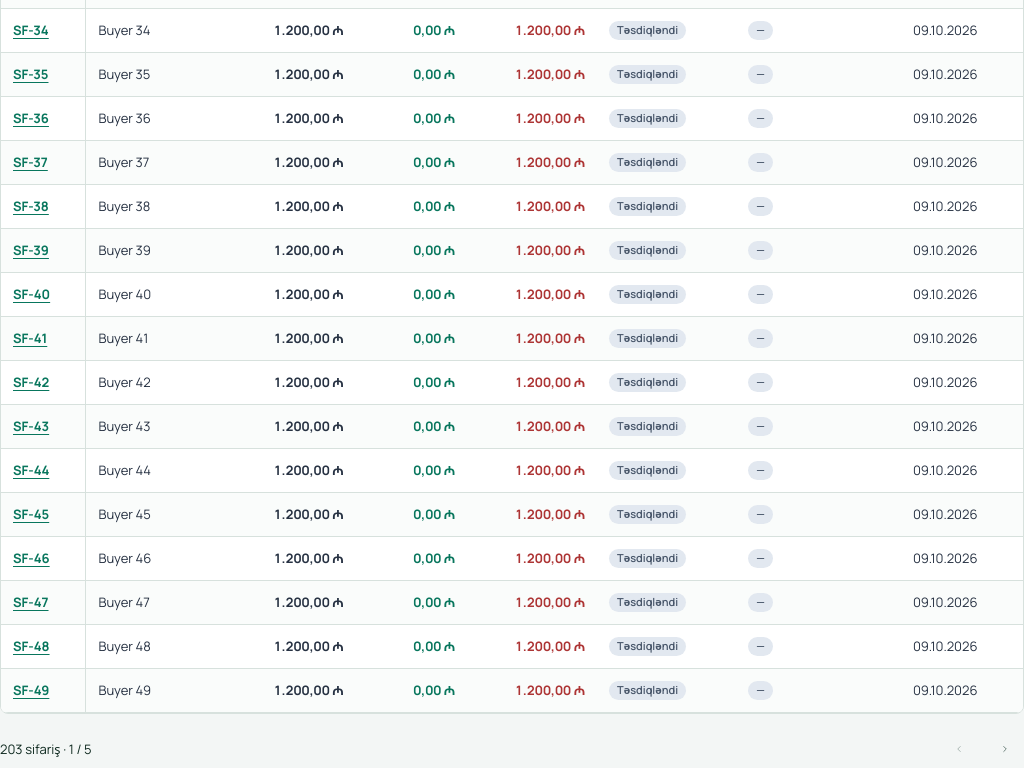
Test: bounds rendered rows while searching the complete loaded registry
This screenshot has width=1024, height=768.
(page scrolled)
Check: the navigation bar named "Satış reyestri səhifələri" shows "203 sifariş", box [0, 730, 1023, 767]
Click the button named "Növbəti səhifə" at (1005, 749), box [986, 730, 1023, 767]
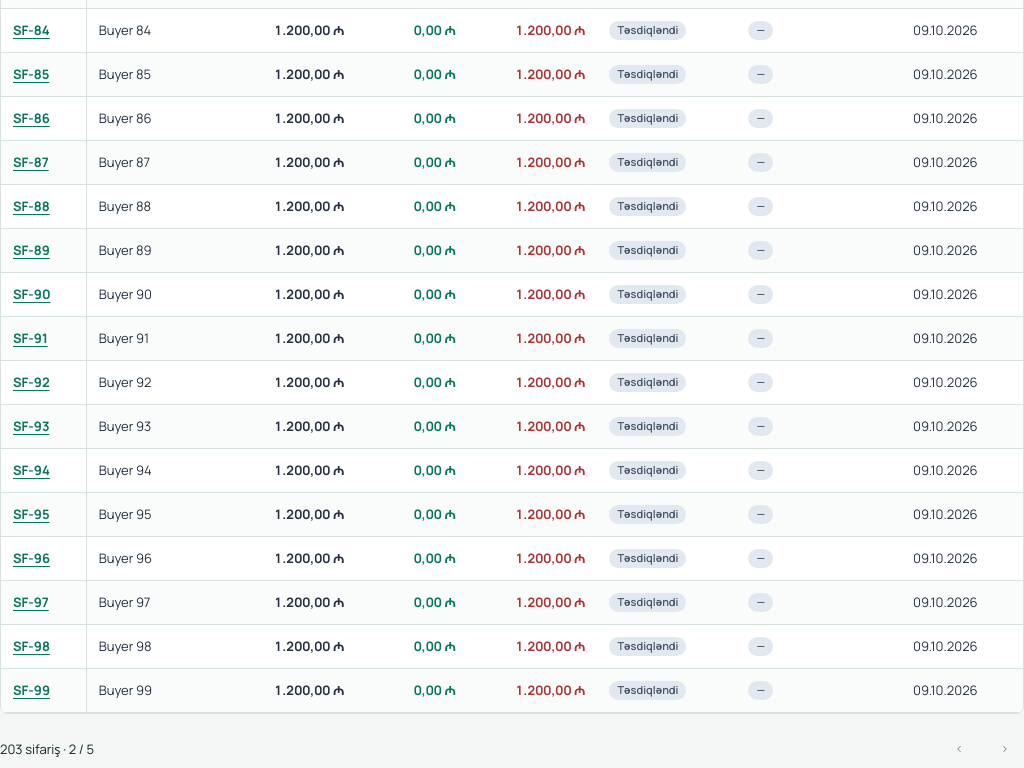
Click the button named "Növbəti səhifə" at (1005, 749), box [986, 730, 1023, 767]
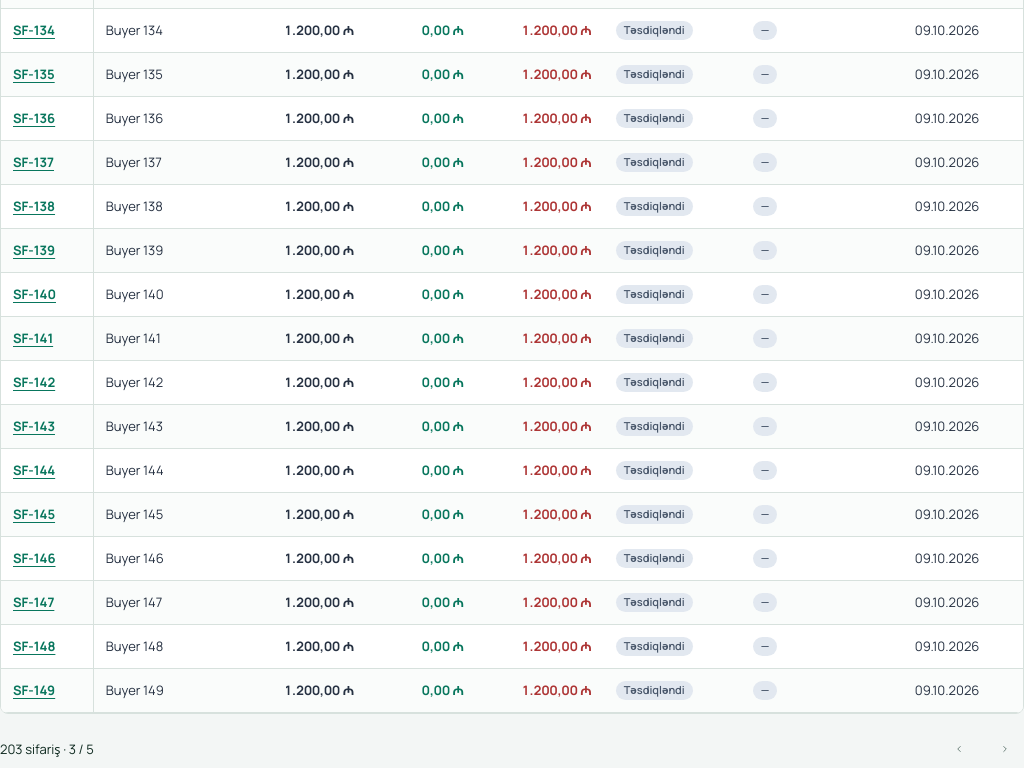
Click the button named "Növbəti səhifə" at (1005, 749), box [986, 730, 1023, 767]
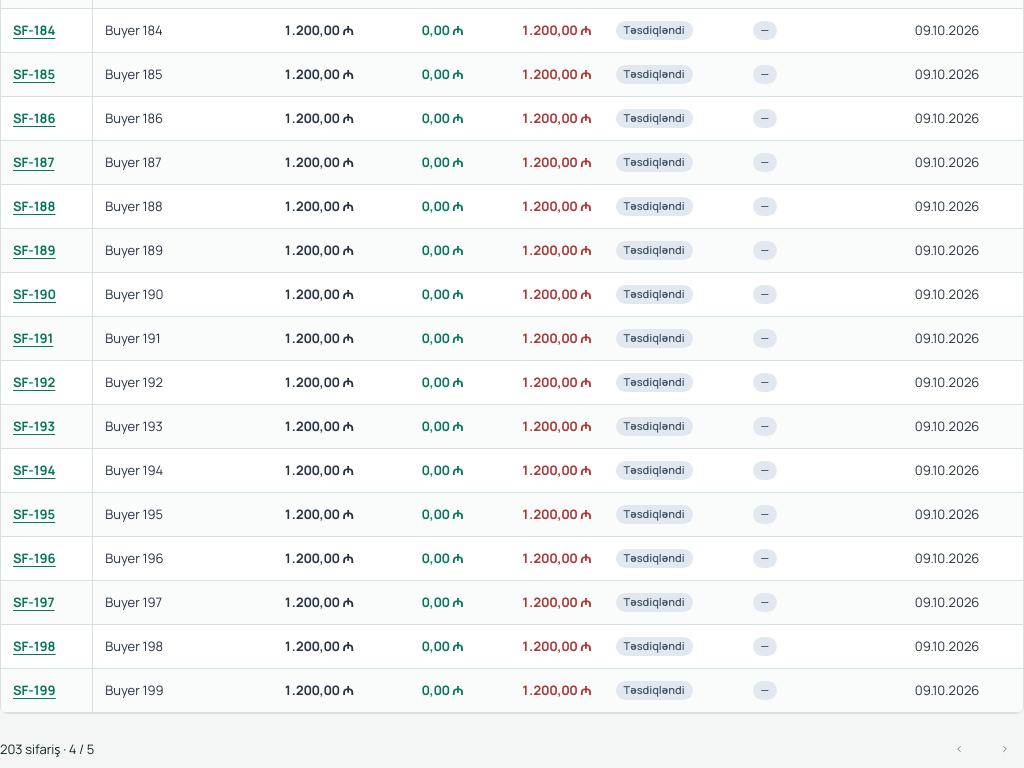
Click the button named "Növbəti səhifə" at (1005, 749), box [986, 730, 1023, 767]
(page scrolled)
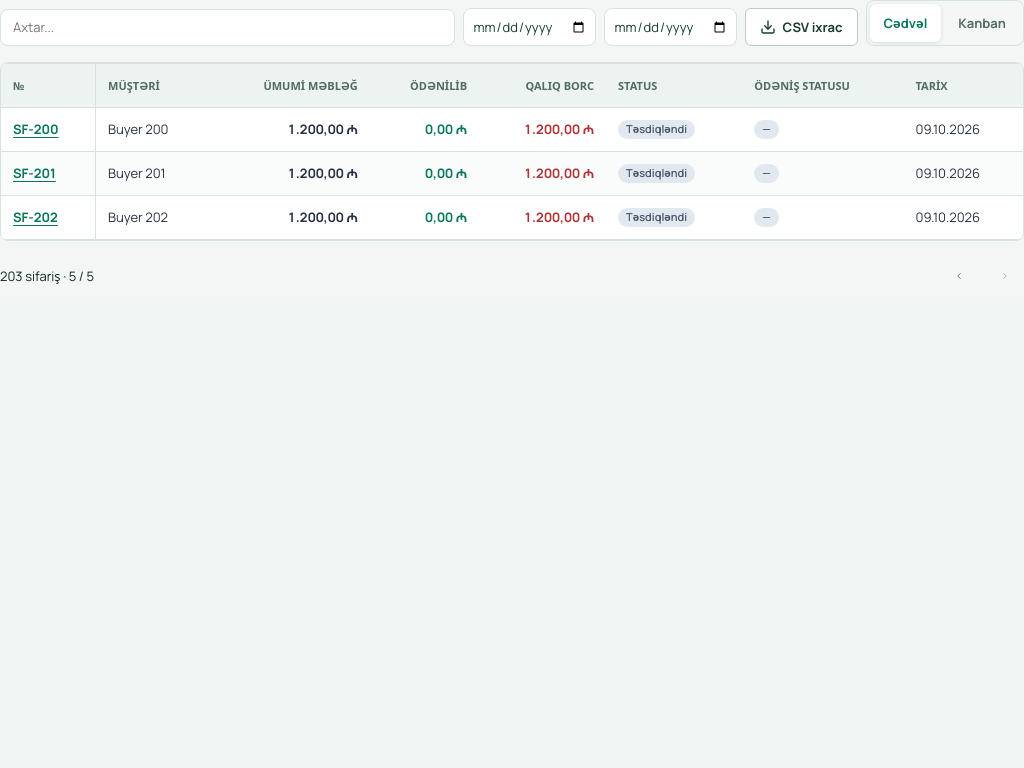
Check: the link "SF-202" is shown, box [13, 208, 58, 226]
Type "SF-175" into the field with placeholder "Axtar..." at (228, 28), box [0, 9, 455, 46]
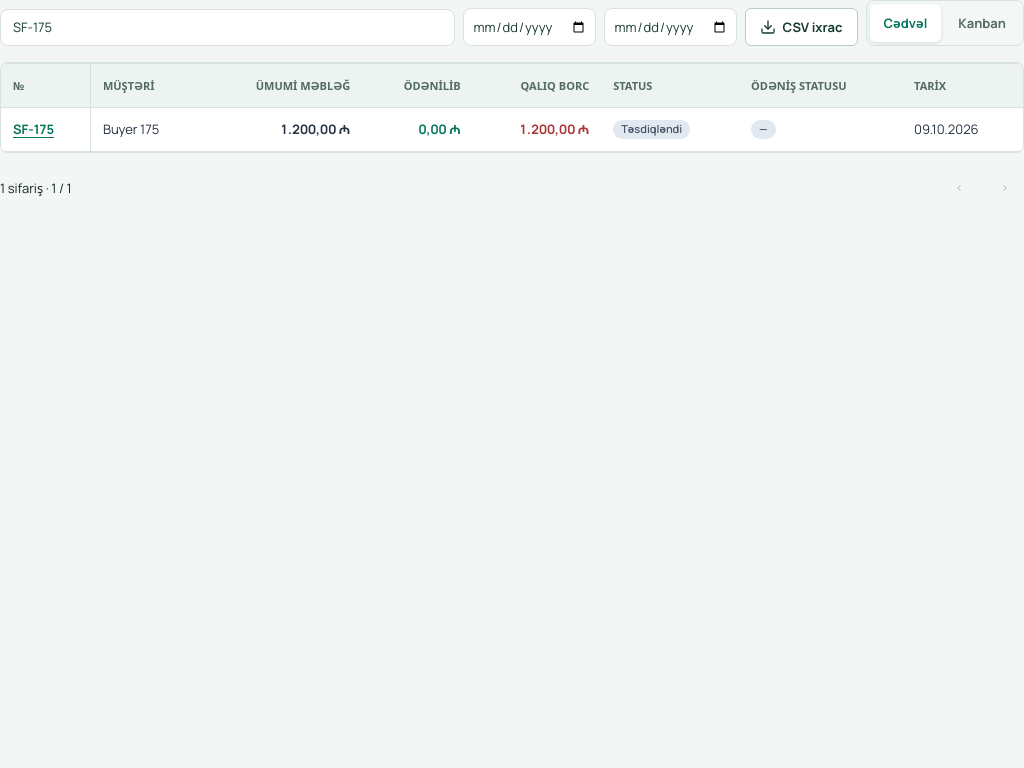
Click the link "SF-175" at (34, 129), box [13, 120, 54, 138]
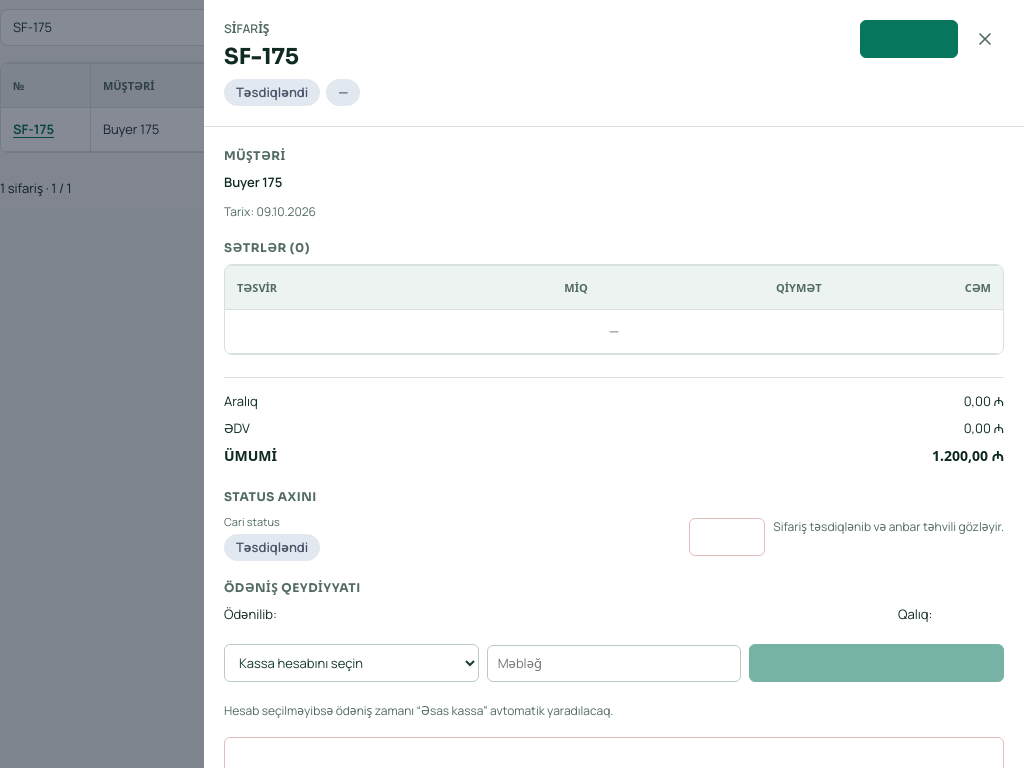
Check: the dialog shows "SF-175", box [224, 43, 299, 70]
